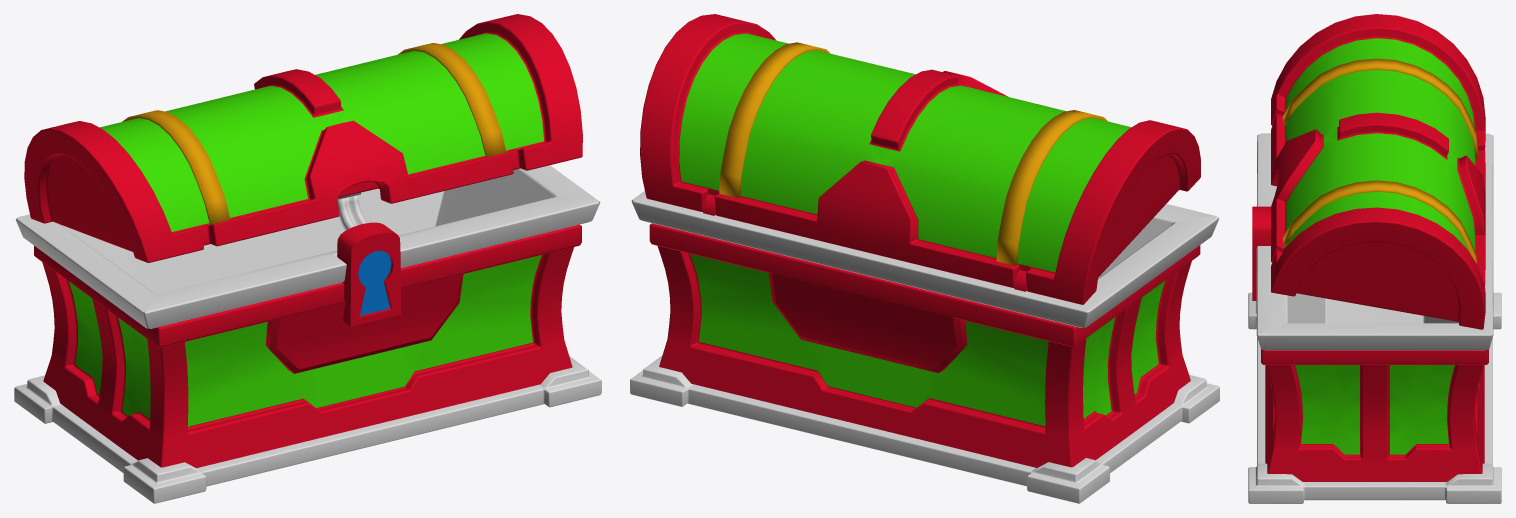
File: Chest.fbx
3 views of the same model, side by side, from view 1: azimuth 30°, elevation 25°; view 2: azimuth 150°, elevation 25°; view 3: azimuth 270°, elevation 25° (orthographic). The views are drawn at different scales.
Visible parts, largest first — view 1: Chest, Chest_Top, Chest_Zamek; view 2: Chest, Chest_Top; view 3: Chest_Top, Chest.
Boxes of the visible parts, x1,y1,x2,y2 form: Chest: [14, 165, 601, 503]; Chest_Top: [24, 14, 582, 262]; Chest_Zamek: [337, 192, 367, 230]; Chest: [630, 191, 1219, 503]; Chest_Top: [640, 14, 1200, 304]; Chest_Top: [1271, 14, 1485, 329]; Chest: [1248, 133, 1501, 503].
Size of the model in its own units: 342 by 221 by 176.
